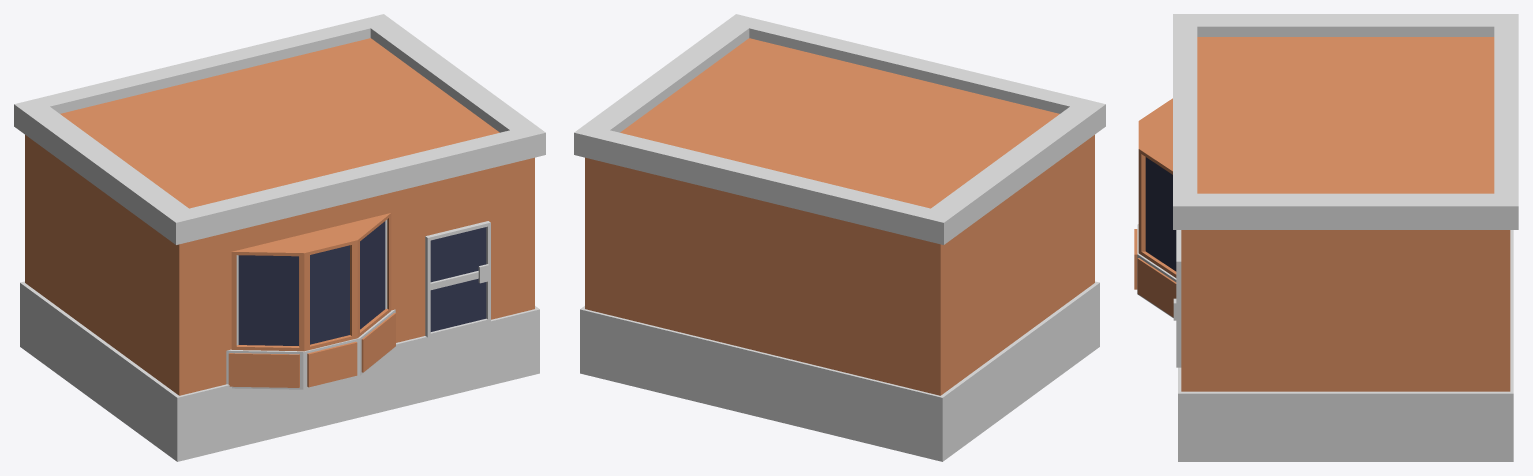
File: Lowrise_2.fbx
The picture shows the model from 3 angles, left to right: view 1: azimuth 30°, elevation 25°; view 2: azimuth 150°, elevation 25°; view 3: azimuth 270°, elevation 25°; orthographic projection. The views are drawn at different scales.
Visible parts, largest first — view 1: House_2; view 2: House_2; view 3: House_2.
Boxes of the visible parts, x1,y1,x2,y2 form: House_2: [14, 14, 545, 461]; House_2: [574, 14, 1105, 461]; House_2: [1134, 14, 1518, 461].
Bounding box in the file's own units: 7.77 × 4.85 × 6.56.
